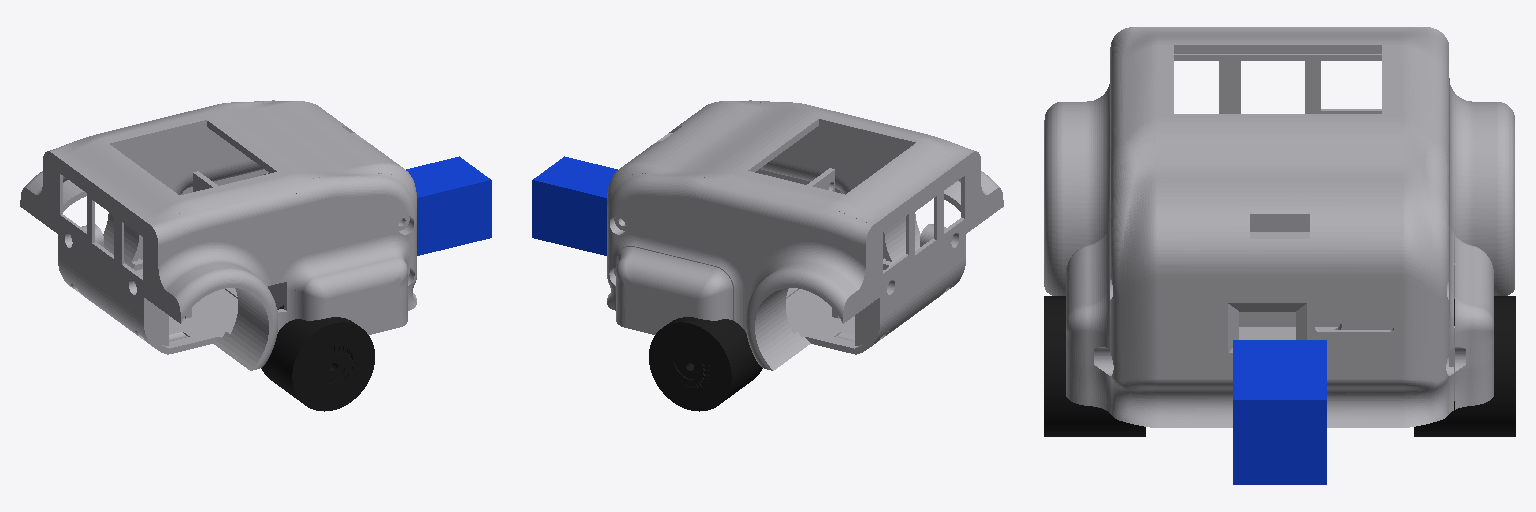
robot.urdf — ardubot:
<?xml version="1.0"?>
<robot name="ardubot">

  <!--
    Convention ROS utilisée :
      X vers l'avant, Y vers la gauche, Z vers le haut.

    Les STL proviennent d'un assemblage CAO et contiennent donc des coordonnées
    globales. base_link est recentré sur le milieu transversal des deux axes. Pour les roues, le mesh est recentré sur son axe dans le repère du
    link, puis le joint est placé au centre réel de la roue dans base_link.
    Ainsi, une mise à jour de /joint_states fait tourner la roue sur elle-même
    au lieu de la translater autour de base_link.
  -->

  <link name="base_link">
    <inertial>
      <origin xyz="0 0 0" rpy="0 0 0"/>
      <mass value="1.5"/>
      <inertia ixx="0.02" ixy="0.0" ixz="0.0" iyy="0.02" iyz="0.0" izz="0.03"/>
    </inertial>
    <visual>
      <origin xyz="-0.04 -0.22666852 -0.01" rpy="1.57079632679 0 1.57079632679"/>
      <geometry>
        <mesh filename="package://ardubot_description/meshes/chassis.STL" scale="0.001 0.001 0.001"/>
      </geometry>
      <material name="chassis_gray">
        <color rgba="0.7 0.7 0.72 1.0"/>
      </material>
    </visual>
    <collision>
      <origin xyz="-0.04 -0.22666852 -0.01" rpy="1.57079632679 0 1.57079632679"/>
      <geometry>
        <mesh filename="package://ardubot_description/meshes/chassis.STL" scale="0.001 0.001 0.001"/>
      </geometry>
    </collision>
  </link>

  <link name="left_wheel_link">
    <inertial>
      <origin xyz="0 0 0" rpy="0 0 0"/>
      <mass value="0.2"/>
      <inertia ixx="0.0004" ixy="0.0" ixz="0.0" iyy="0.0002" iyz="0.0" izz="0.0002"/>
    </inertial>
    <visual>
      <!-- Recentrage du STL sur le centre de l'axe de la roue gauche. -->
      <origin xyz="-0.01987150 -0.26588535 -0.01954433" rpy="1.57079632679 0 1.57079632679"/>
      <geometry>
        <mesh filename="package://ardubot_description/meshes/left_wheel.STL" scale="0.001 0.001 0.001"/>
      </geometry>
      <material name="wheel_black">
        <color rgba="0.15 0.15 0.15 1.0"/>
      </material>
    </visual>
    <collision>
      <origin xyz="-0.01987150 -0.26588535 -0.01954433" rpy="1.57079632679 0 1.57079632679"/>
      <geometry>
        <mesh filename="package://ardubot_description/meshes/left_wheel.STL" scale="0.001 0.001 0.001"/>
      </geometry>
    </collision>
  </link>

  <joint name="left_wheel_joint" type="continuous">
    <parent link="base_link"/>
    <child link="left_wheel_link"/>
    <!-- Correction physique supplémentaire : +20,1285 mm en X et -9,54433 mm en Z. -->
    <origin xyz="0.02012850 0.03921684 -0.00954433" rpy="0 0 0"/>
    <!-- L'axe X du STL devient l'axe +Y dans la convention ROS. -->
    <axis xyz="0 1 0"/>
  </joint>

  <link name="right_wheel_link">
    <inertial>
      <origin xyz="0 0 0" rpy="0 0 0"/>
      <mass value="0.2"/>
      <inertia ixx="0.0004" ixy="0.0" ixz="0.0" iyy="0.0002" iyz="0.0" izz="0.0002"/>
    </inertial>
    <visual>
      <!-- Recentrage du STL sur le centre de l'axe de la roue droite. -->
      <origin xyz="-0.01987150 -0.18745168 -0.01954433" rpy="1.57079632679 0 1.57079632679"/>
      <geometry>
        <mesh filename="package://ardubot_description/meshes/right_wheel.STL" scale="0.001 0.001 0.001"/>
      </geometry>
      <material name="wheel_black">
        <color rgba="0.15 0.15 0.15 1.0"/>
      </material>
    </visual>
    <collision>
      <origin xyz="-0.01987150 -0.18745168 -0.01954433" rpy="1.57079632679 0 1.57079632679"/>
      <geometry>
        <mesh filename="package://ardubot_description/meshes/right_wheel.STL" scale="0.001 0.001 0.001"/>
      </geometry>
    </collision>
  </link>

  <joint name="right_wheel_joint" type="continuous">
    <parent link="base_link"/>
    <child link="right_wheel_link"/>
    <!-- Correction physique supplémentaire : +20,1285 mm en X et -9,54433 mm en Z. -->
    <origin xyz="0.02012850 -0.03921684 -0.00954433" rpy="0 0 0"/>
    <axis xyz="0 1 0"/>
  </joint>

  <link name="tof_link">
    <visual>
      <origin xyz="0 0 0" rpy="0 0 0"/>
      <geometry>
        <box size="0.03 0.02 0.02"/>
      </geometry>
      <material name="tof_blue">
        <color rgba="0.1 0.3 0.9 1.0"/>
      </material>
    </visual>
  </link>

  <joint name="tof_joint" type="fixed">
    <parent link="base_link"/>
    <child link="tof_link"/>
    <origin xyz="0.085 0.0 0.01" rpy="0 0 0"/>
  </joint>

  <link name="tof_optical_frame"/>

  <joint name="tof_optical_joint" type="fixed">
    <parent link="tof_link"/>
    <child link="tof_optical_frame"/>
    <origin xyz="0 0 0" rpy="-1.57079632679 0 -1.57079632679"/>
  </joint>

  <!-- Le firmware transforme déjà les données du BNO055 dans les axes du robot. -->
  <link name="imu_link"/>

  <joint name="imu_joint" type="fixed">
    <parent link="base_link"/>
    <child link="imu_link"/>
    <origin xyz="0 0 0" rpy="0 0 0"/>
  </joint>

  <link name="sensor_frame"/>
  <joint name="sensor_frame_joint" type="fixed">
    <parent link="tof_optical_frame"/><child link="sensor_frame"/>
    <origin xyz="0 0 0" rpy="3.141592653589793 0 0"/>
  </joint>
  <link name="laser_frame"/>
  <joint name="laser_frame_joint" type="fixed">
    <parent link="base_link"/><child link="laser_frame"/>
    <origin xyz="0.060 0 0" rpy="0 0 0"/>
  </joint>
</robot>

--- What the picture shows (computed from the rendered views, not written in the file) ---
3 views of the same robot in one strip: view 1: azimuth 30°, elevation 25°; view 2: azimuth 150°, elevation 25°; view 3: azimuth 270°, elevation 25° (orthographic).
Robot: ardubot — 8 links, 7 joints (2 continuous, 5 fixed); root link base_link; default pose: every joint at zero.
Links seen in each view (by area): view 1: base_link, right_wheel_link, tof_link; view 2: base_link, left_wheel_link, tof_link; view 3: base_link, tof_link, left_wheel_link, right_wheel_link.
Link boxes in pixels (x1=…): base_link: x1=20, y1=100, x2=416, y2=370; right_wheel_link: x1=261, y1=305, x2=374, y2=411; tof_link: x1=406, y1=156, x2=491, y2=255; base_link: x1=607, y1=100, x2=1003, y2=370; left_wheel_link: x1=649, y1=317, x2=762, y2=411; tof_link: x1=532, y1=156, x2=617, y2=255; base_link: x1=1044, y1=27, x2=1514, y2=427; tof_link: x1=1233, y1=340, x2=1326, y2=484; left_wheel_link: x1=1414, y1=296, x2=1515, y2=436; right_wheel_link: x1=1044, y1=296, x2=1145, y2=436.
Size in the robot's own frame: 0.1349 by 0.1 by 0.072 metres.
3 mesh visuals loaded from 3 distinct referenced files (3 binary STL).
